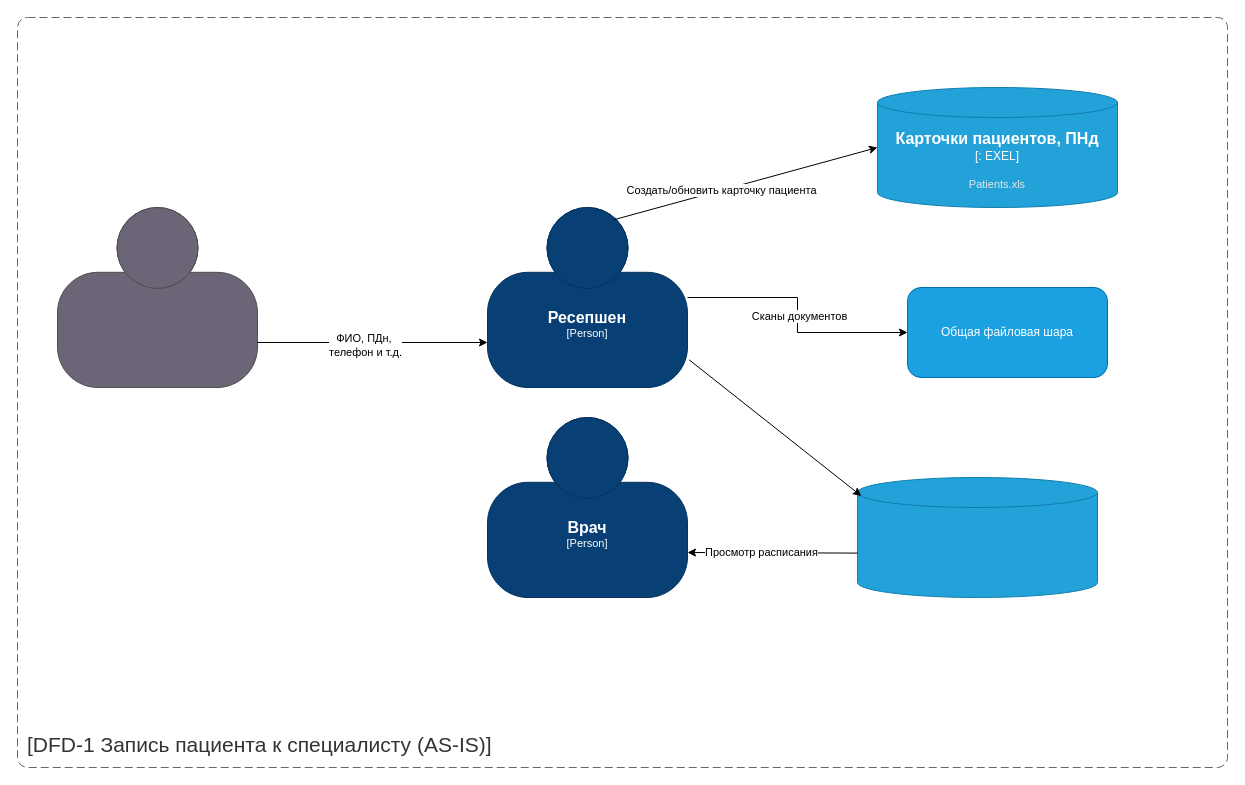
Some shapes in this 1245 by 785 pixel diagram are drawn without their labels. Here are the shapes that lost their labels. From the top down, the centre of each, then its label:
[157,297]: Пациент [Person]
[977,537]: Журнал записей [: EXEL] Jornal Doctor.xls
